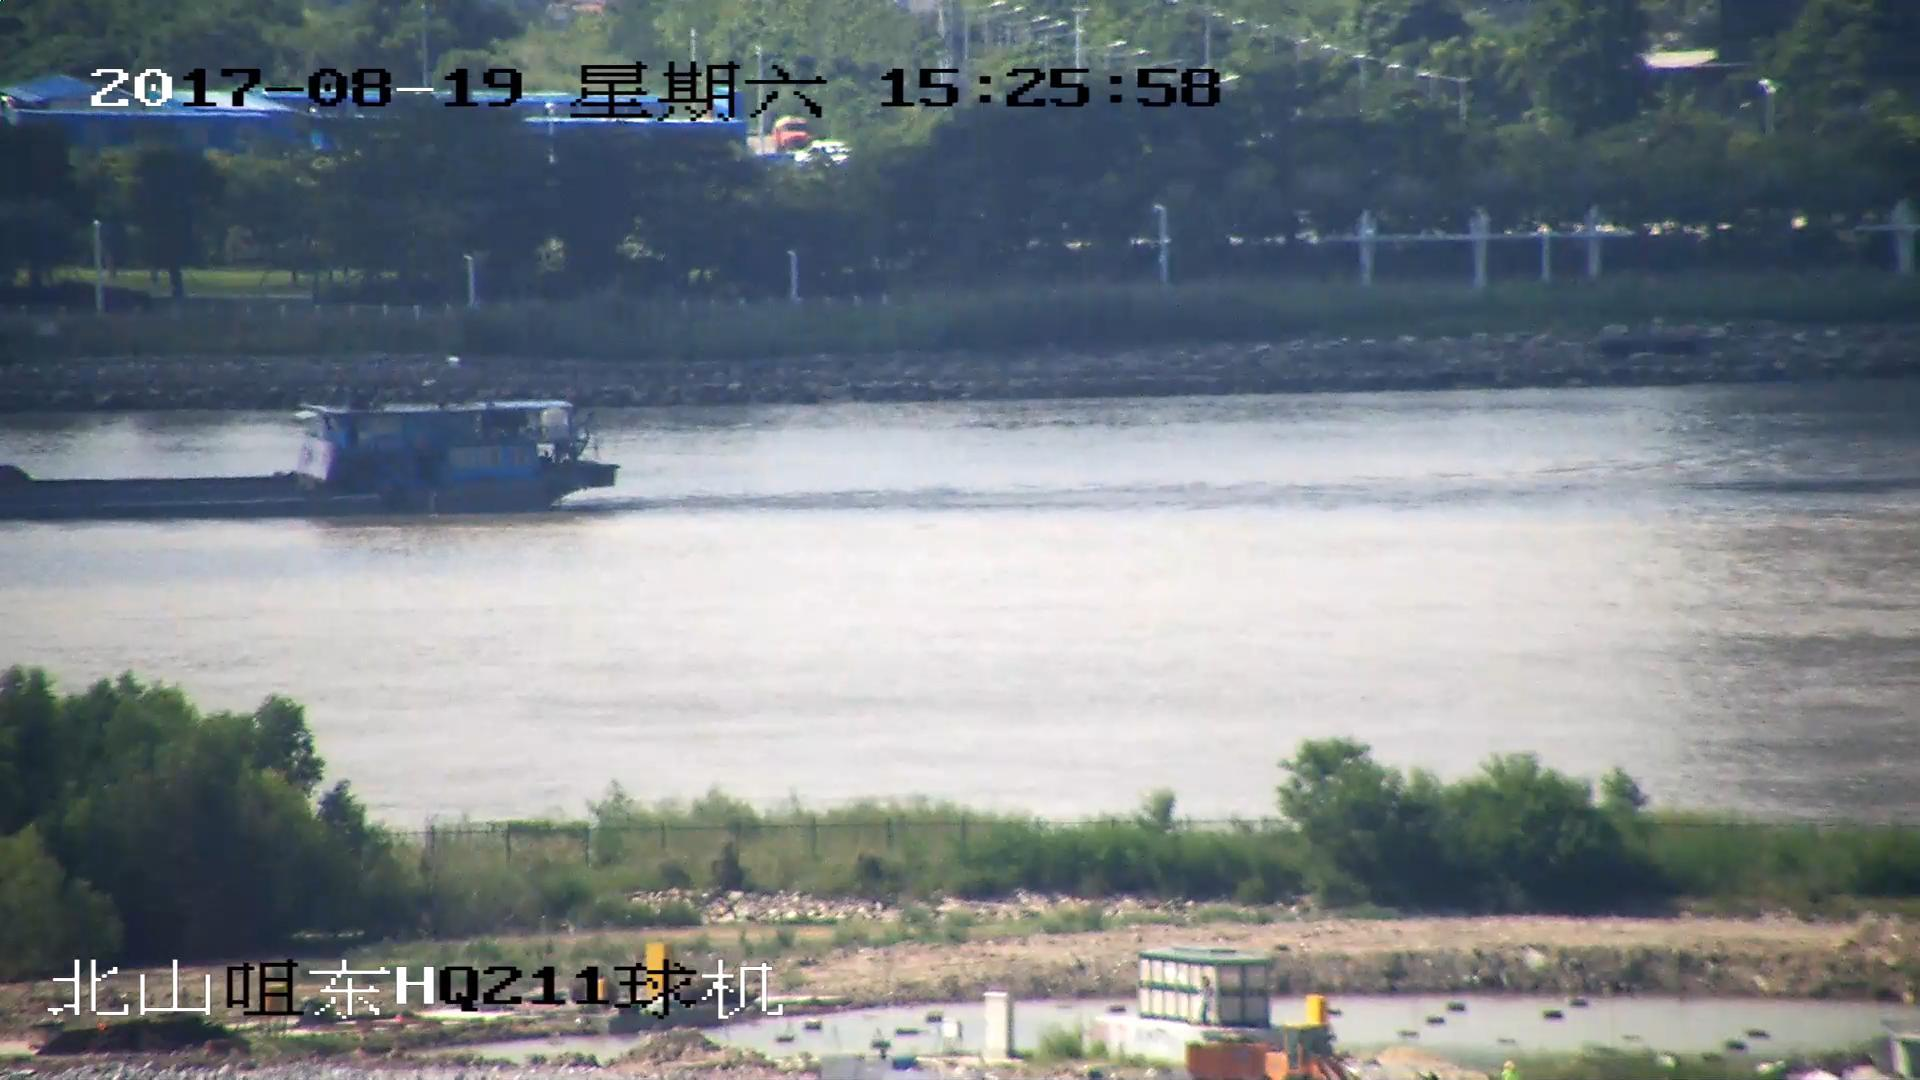Ship: (3, 378, 629, 525)
